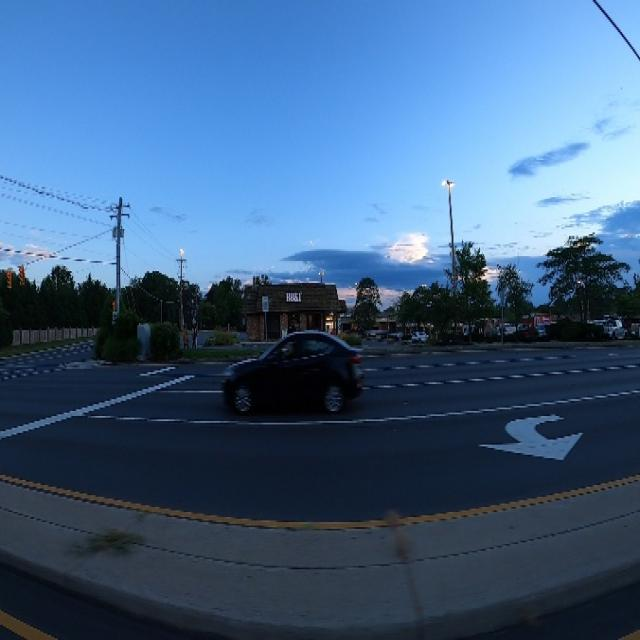cars: (220, 328, 367, 431), (603, 310, 626, 343), (411, 324, 427, 348)
